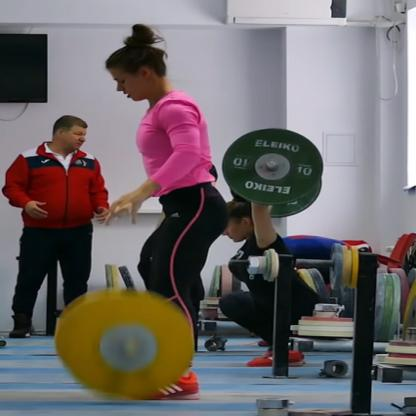Barbell: (49, 283, 205, 399), (220, 122, 334, 213)
